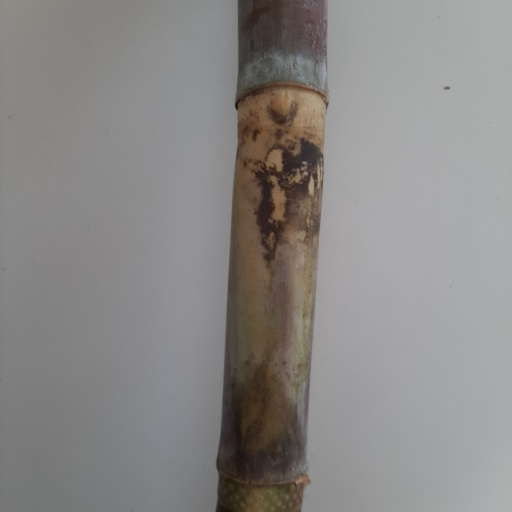Bud: (267, 89, 299, 125)
